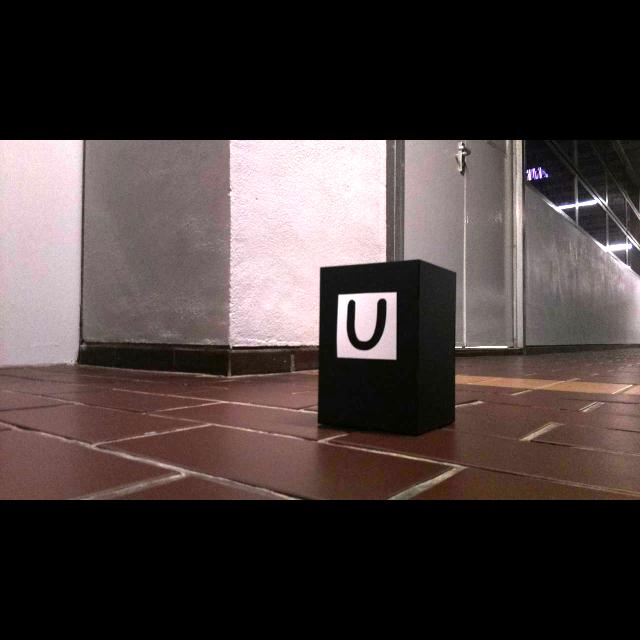U: (347, 298, 387, 351)
